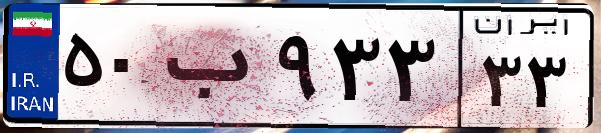0: (110, 28, 158, 98)
3: (385, 28, 445, 110), (330, 28, 385, 110), (475, 38, 525, 113), (525, 38, 570, 115)
5: (57, 26, 110, 100)
9: (270, 28, 330, 110)
ب: (158, 20, 270, 120)
